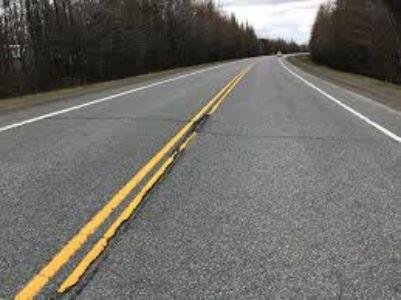pothole: (48, 191, 156, 300), (149, 101, 211, 196)
